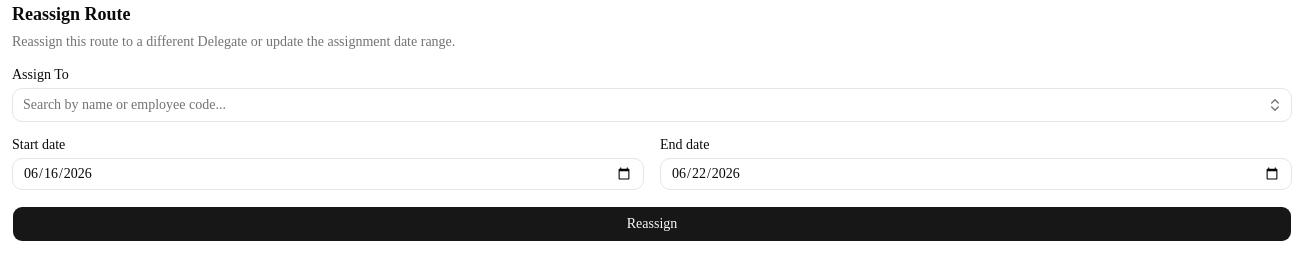
Test: ReassignForm › pulls the end date forward when the start is moved past it
The image size is (1304, 258).
Type "2026-07-01" into the date field labelled "Start date" at coordinates (328, 174), box [12,158,644,190]
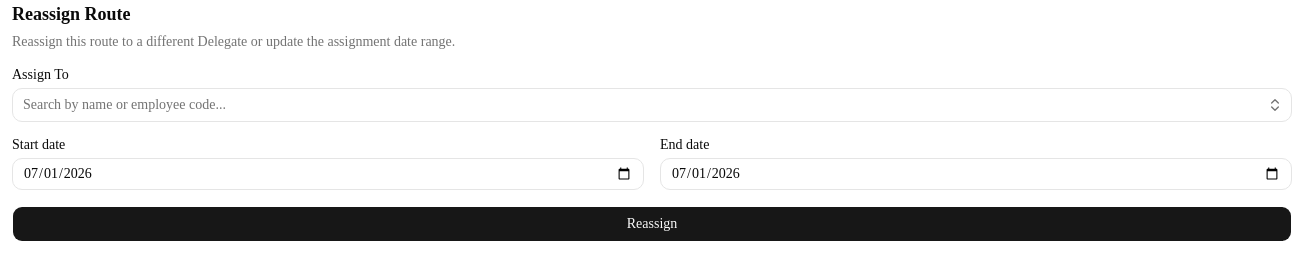
Now the date field labelled "End date" holds "2026-07-01", box [660,158,1292,190]
